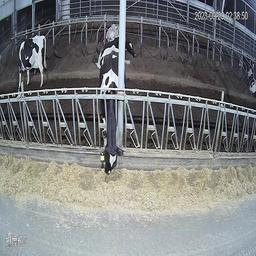cow: (99, 54, 123, 179), (18, 34, 47, 92), (95, 35, 136, 69), (245, 63, 255, 100)
